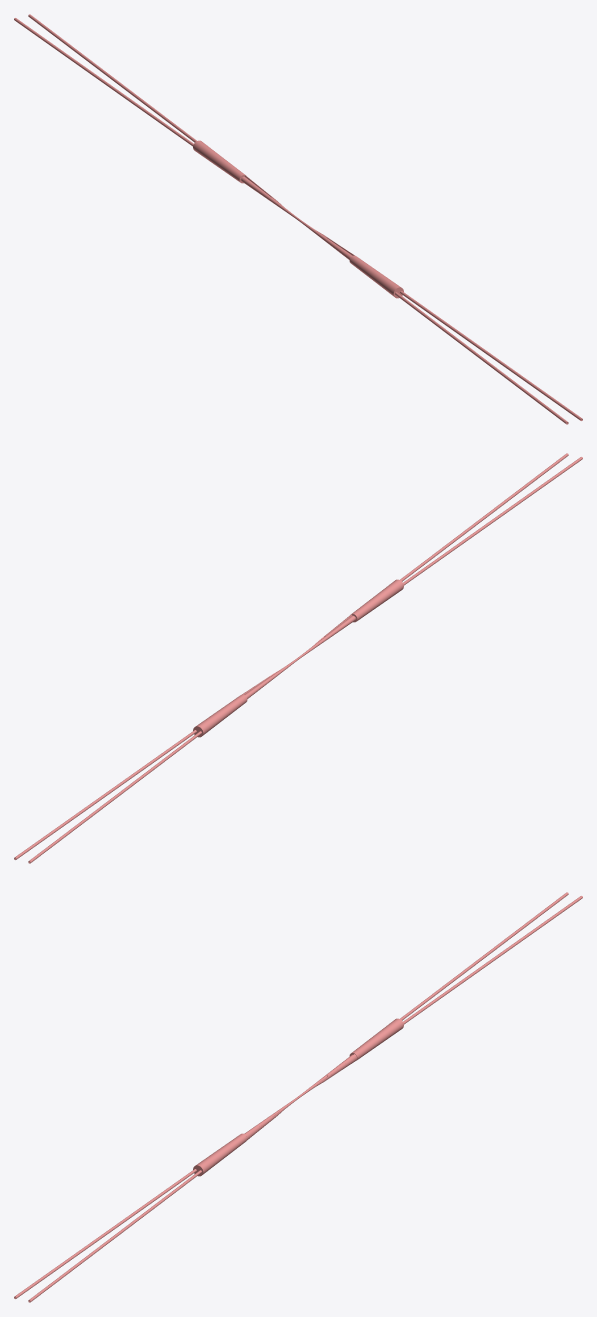
Rendered from IDEA_o1_v03.gltf.
3 renders of one model, top to bottom at view 1: azimuth 30°, elevation 25°; view 2: azimuth 150°, elevation 25°; view 3: azimuth 330°, elevation 25°, orthographic.
Visible parts, largest first — view 1: tube_DownStreamBeamPipe_1_wall_0_0, tube_UpStreamBeamPipe_5_wall2_0, tube_UpStreamBeamPipe_5_wall_0, tube_DownStreamBeamPipe_1_wall_1_0, tube_TaShield_0_0, tube_TaShield_1_1; view 2: tube_DownStreamBeamPipe_1_wall_1_0, tube_UpStreamBeamPipe_5_wall_0, tube_UpStreamBeamPipe_5_wall2_0, tube_DownStreamBeamPipe_1_wall_0_0, tube_TaShield_1_1, tube_TaShield_0_0; view 3: tube_UpStreamBeamPipe_5_wall_0, tube_DownStreamBeamPipe_1_wall_1_0, tube_DownStreamBeamPipe_1_wall_0_0, tube_UpStreamBeamPipe_5_wall2_0, tube_TaShield_0_0, tube_TaShield_1_1.
Boxes of the visible parts, box(x1,y1,x2,y2) form: tube_DownStreamBeamPipe_1_wall_0_0: box(400, 291, 582, 420); tube_UpStreamBeamPipe_5_wall2_0: box(14, 18, 193, 146); tube_UpStreamBeamPipe_5_wall_0: box(395, 292, 568, 424); tube_DownStreamBeamPipe_1_wall_1_0: box(28, 14, 196, 142); tube_TaShield_0_0: box(349, 255, 403, 298); tube_TaShield_1_1: box(193, 140, 245, 183); tube_DownStreamBeamPipe_1_wall_1_0: box(14, 730, 196, 859); tube_UpStreamBeamPipe_5_wall_0: box(403, 457, 582, 585); tube_UpStreamBeamPipe_5_wall2_0: box(28, 731, 201, 863); tube_DownStreamBeamPipe_1_wall_0_0: box(400, 453, 568, 581); tube_TaShield_1_1: box(193, 694, 247, 737); tube_TaShield_0_0: box(351, 579, 403, 622); tube_UpStreamBeamPipe_5_wall_0: box(14, 1169, 196, 1298); tube_DownStreamBeamPipe_1_wall_1_0: box(403, 896, 582, 1024); tube_DownStreamBeamPipe_1_wall_0_0: box(28, 1170, 201, 1302); tube_UpStreamBeamPipe_5_wall2_0: box(400, 892, 568, 1020); tube_TaShield_0_0: box(193, 1133, 247, 1176); tube_TaShield_1_1: box(349, 1018, 403, 1060).
Bounding box in the file's own units: 21.2 × 12.9 × 1200.
